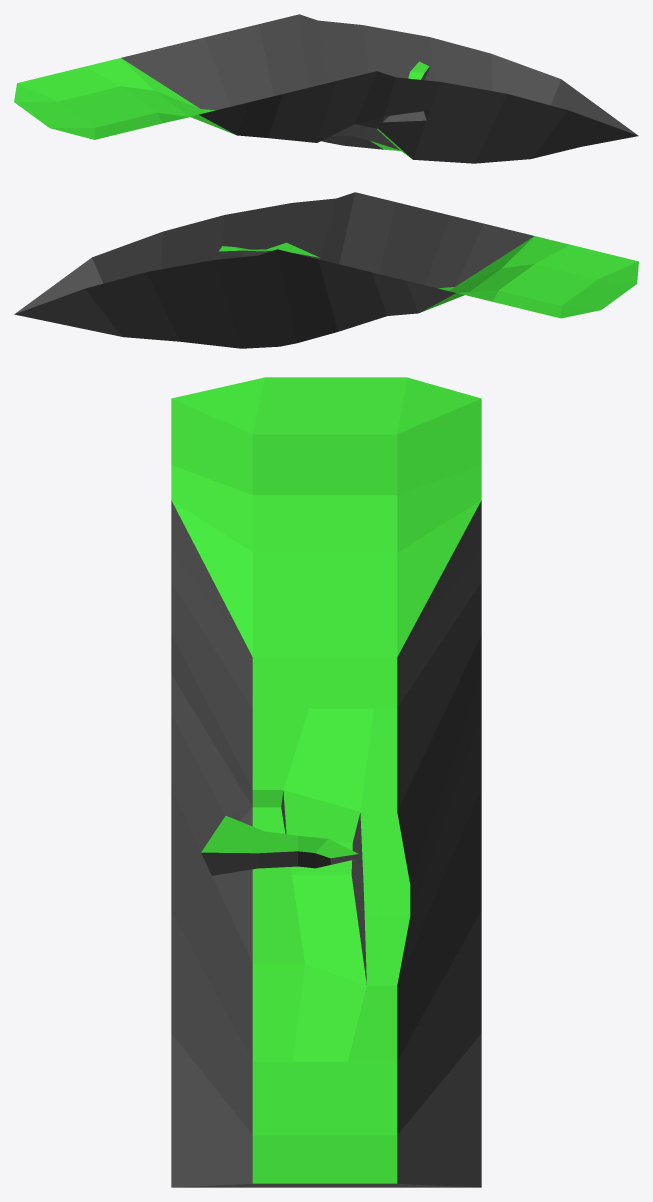
File: Test_Level.fbx
The picture shows the model from 3 angles, top to bottom: view 1: azimuth 30°, elevation 25°; view 2: azimuth 150°, elevation 25°; view 3: azimuth 270°, elevation 25°; orthographic projection. The views are drawn at different scales.
Visible parts, largest first — view 1: Test_Level_Mesh; view 2: Test_Level_Mesh; view 3: Test_Level_Mesh.
Boxes of the visible parts, x1,y1,x2,y2 form: Test_Level_Mesh: (14,14,638,163); Test_Level_Mesh: (14,192,638,348); Test_Level_Mesh: (171,377,481,1187).
Size of the model in its own units: 1809 by 444 by 430.
